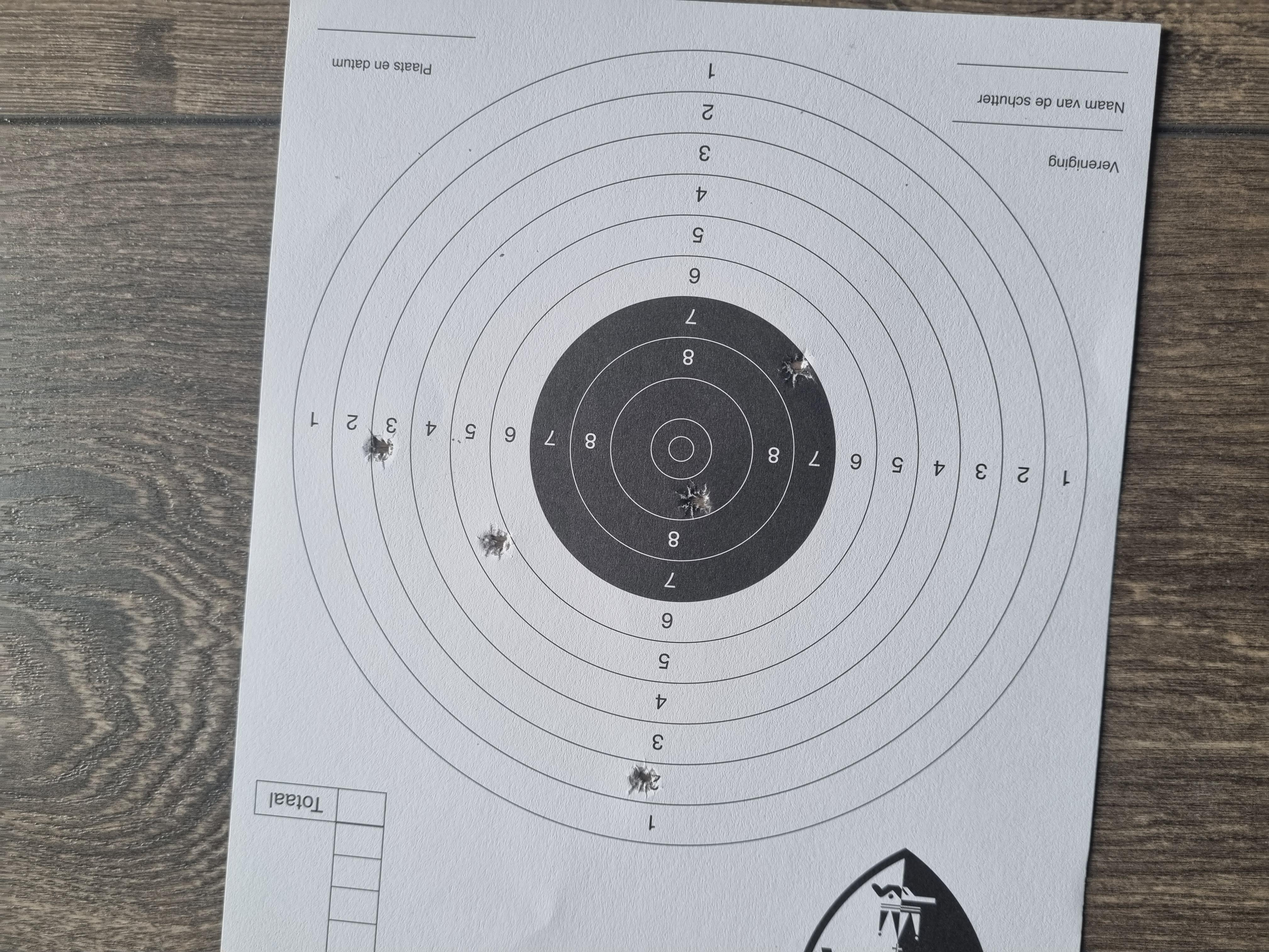hole: (576, 506, 629, 533), (750, 585, 799, 612), (644, 271, 698, 295), (203, 470, 253, 494), (523, 358, 569, 384)
